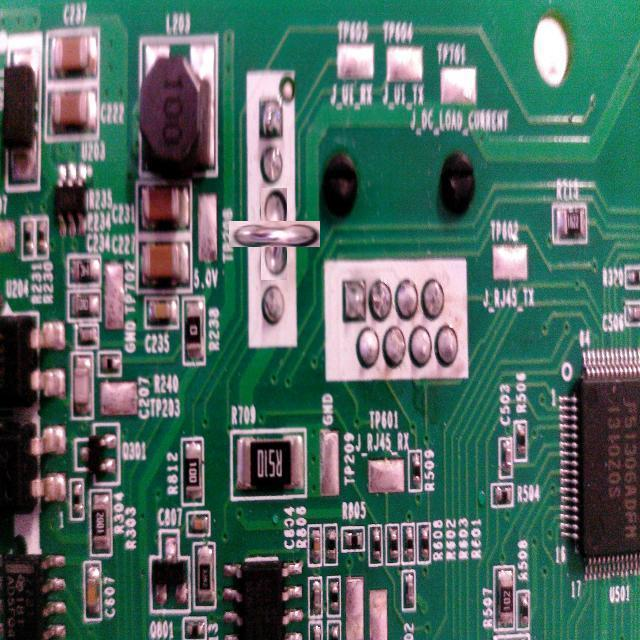Short_circuit: (244, 205, 304, 263)
